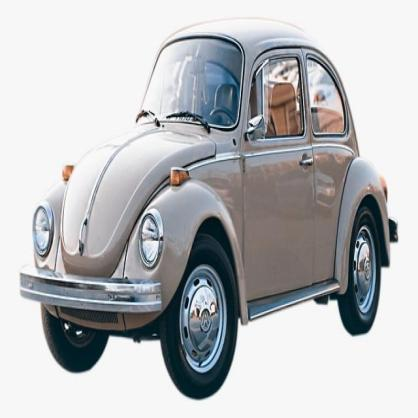car: (22, 16, 399, 404)
